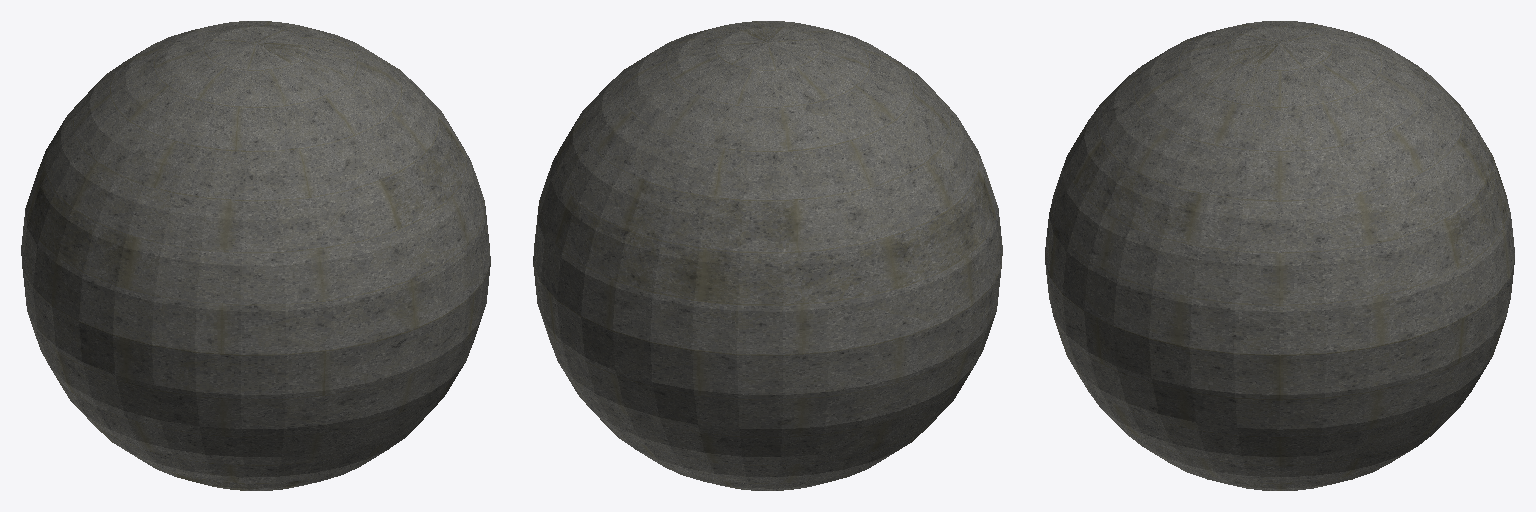
3 renders of one model, left to right at view 1: azimuth 30°, elevation 25°; view 2: azimuth 150°, elevation 25°; view 3: azimuth 270°, elevation 25°, orthographic.
Parts seen in each view (by area): view 1: Sphere; view 2: Sphere; view 3: Sphere.
Part boxes in pixels (left/top/right/bottom): Sphere: left=21, top=21, right=490, bottom=490; Sphere: left=533, top=21, right=1002, bottom=490; Sphere: left=1045, top=21, right=1514, bottom=490.
Size of the model in its own units: 2 by 2 by 2.
1 materials, 1 textured.